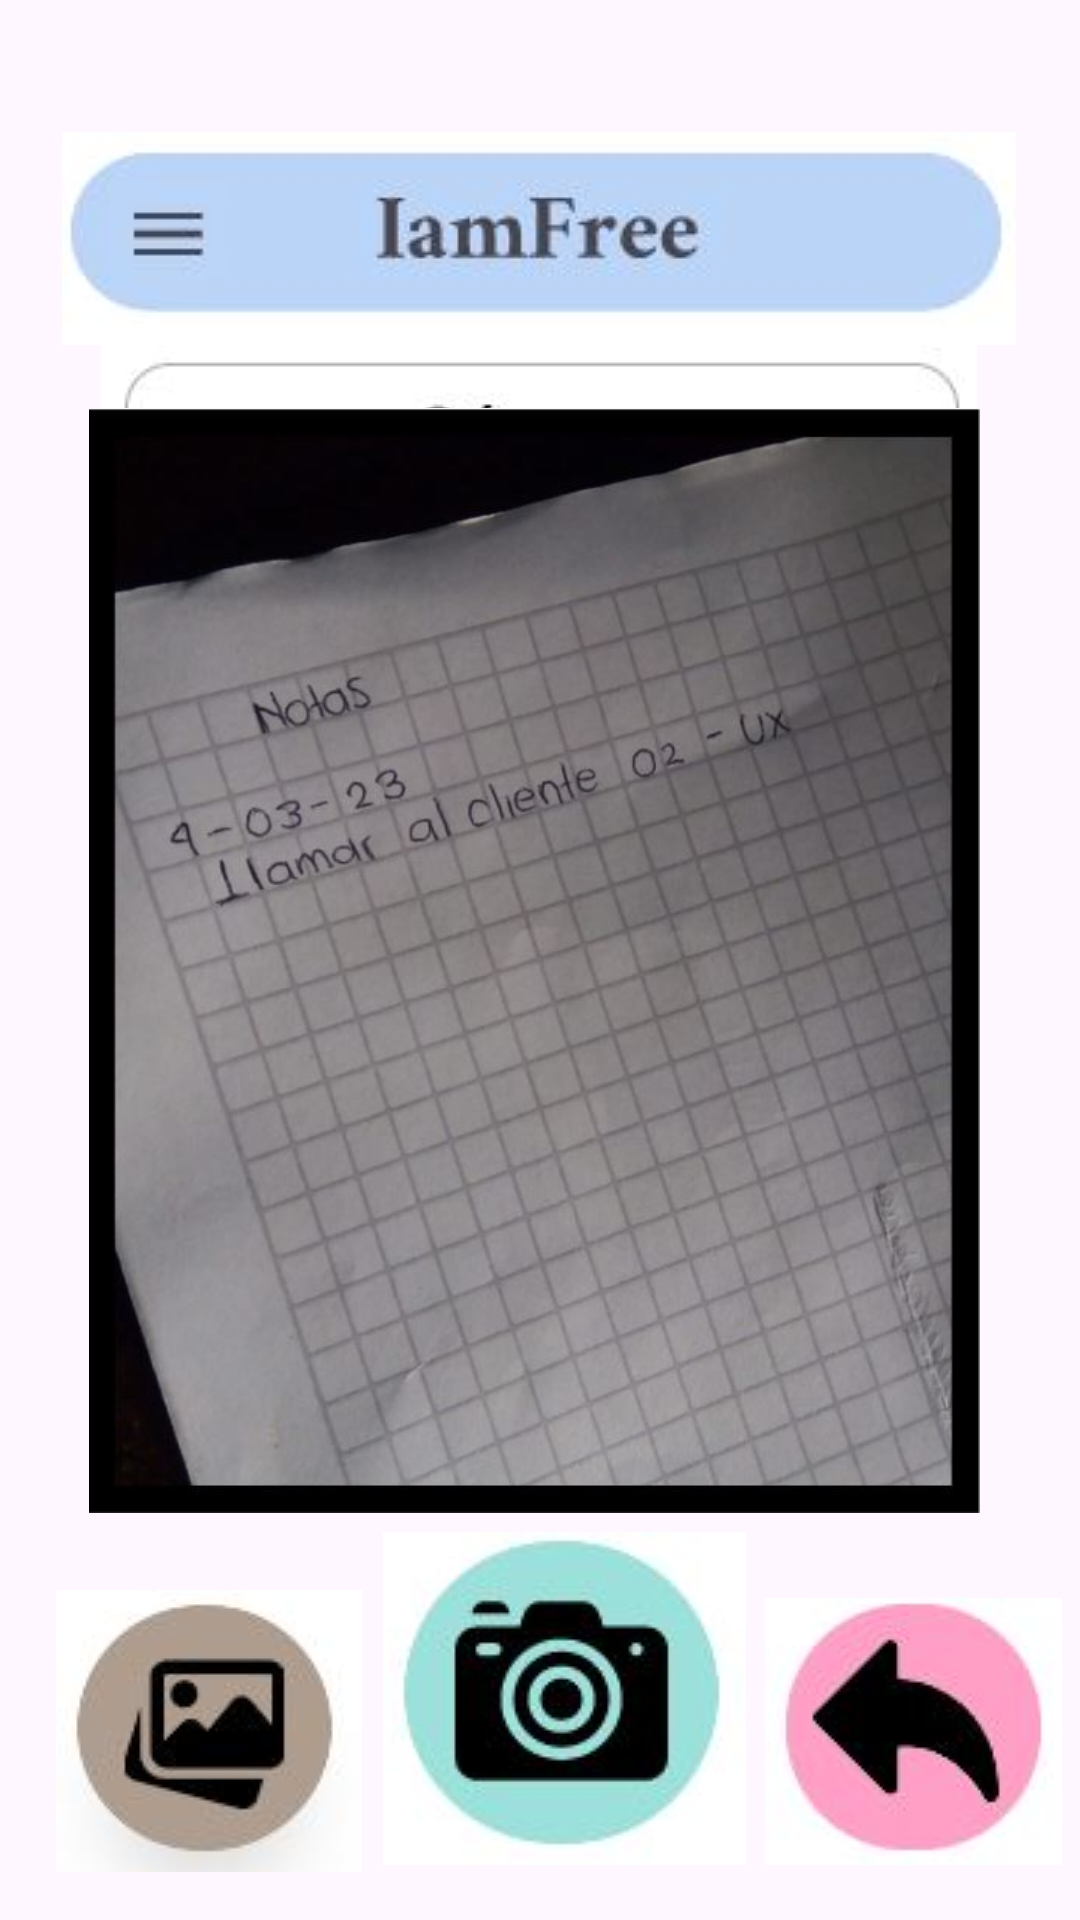

Screen size 1080px x 1920px. Icon name, then its box in pixels as (x1, y1, x2, y2):
atras: (785, 1603, 1042, 1851)
capturar: (403, 1540, 720, 1845)
galeria: (76, 1604, 333, 1868)
